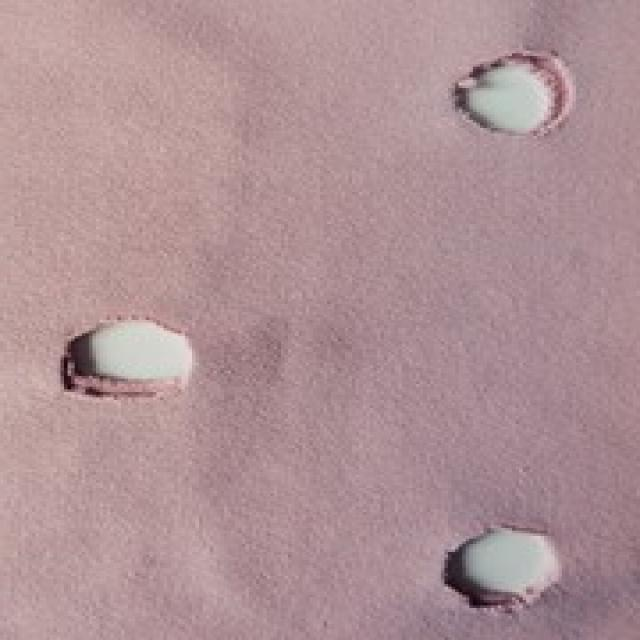Hole: (455, 51, 575, 134), (61, 321, 191, 397), (444, 529, 561, 610)
